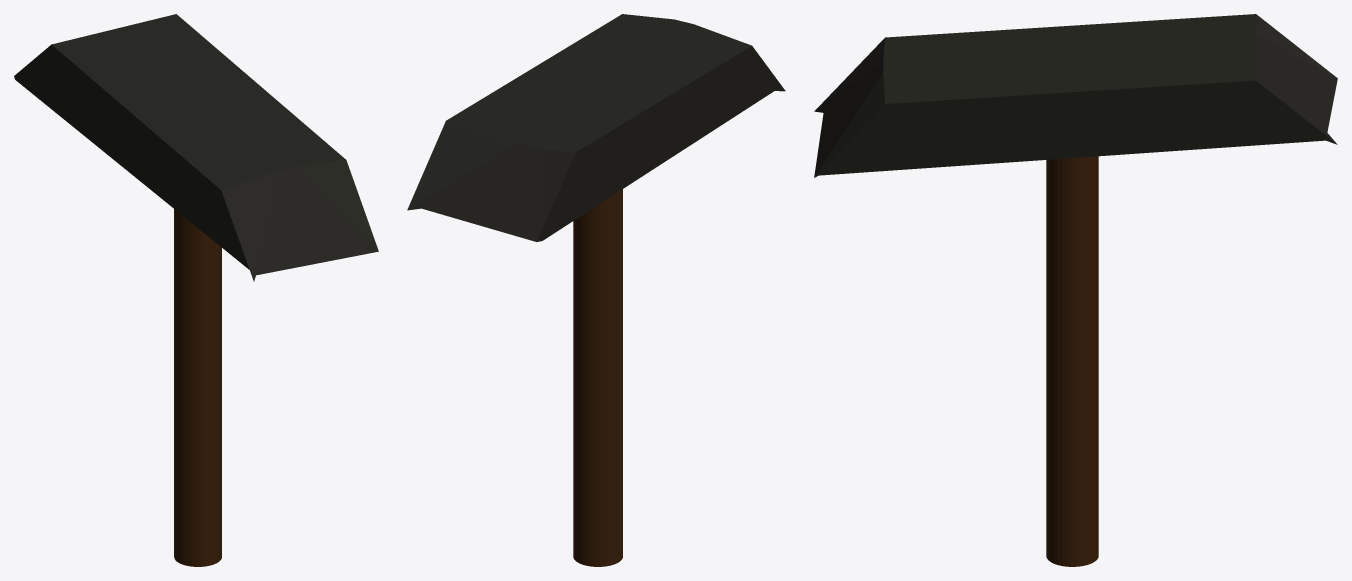
The model's file is pickaxe.fbx.
The picture shows the model from 3 angles, left to right: view 1: azimuth 30°, elevation 25°; view 2: azimuth 150°, elevation 25°; view 3: azimuth 270°, elevation 25°; orthographic projection. The views are drawn at different scales.
Parts seen in each view (by area): view 1: Cube, Cylinder; view 2: Cube, Cylinder; view 3: Cube, Cylinder.
Part boxes in pixels (x1=…): Cube: x1=14, y1=14, x2=378, y2=281; Cylinder: x1=174, y1=209, x2=221, y2=566; Cube: x1=407, y1=14, x2=785, y2=241; Cylinder: x1=573, y1=189, x2=622, y2=566; Cube: x1=814, y1=14, x2=1337, y2=177; Cylinder: x1=1046, y1=156, x2=1098, y2=566.
Bounding box in the file's own units: 61.24 × 214 × 200.
